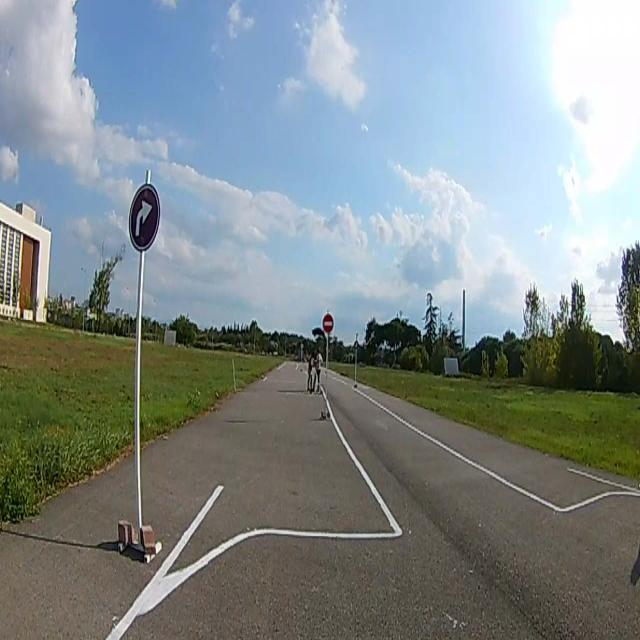girisyok: (322, 315, 333, 334)
sag: (130, 186, 160, 245)
